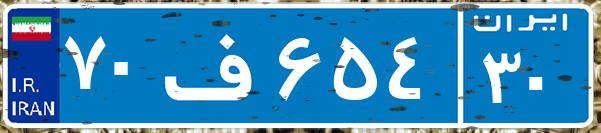0: (110, 28, 158, 105), (525, 38, 570, 115)
3: (475, 38, 525, 113)
4: (385, 28, 445, 110)
5: (330, 28, 385, 110)
6: (273, 28, 330, 110)
7: (57, 26, 110, 107)
ف: (158, 15, 273, 115)
